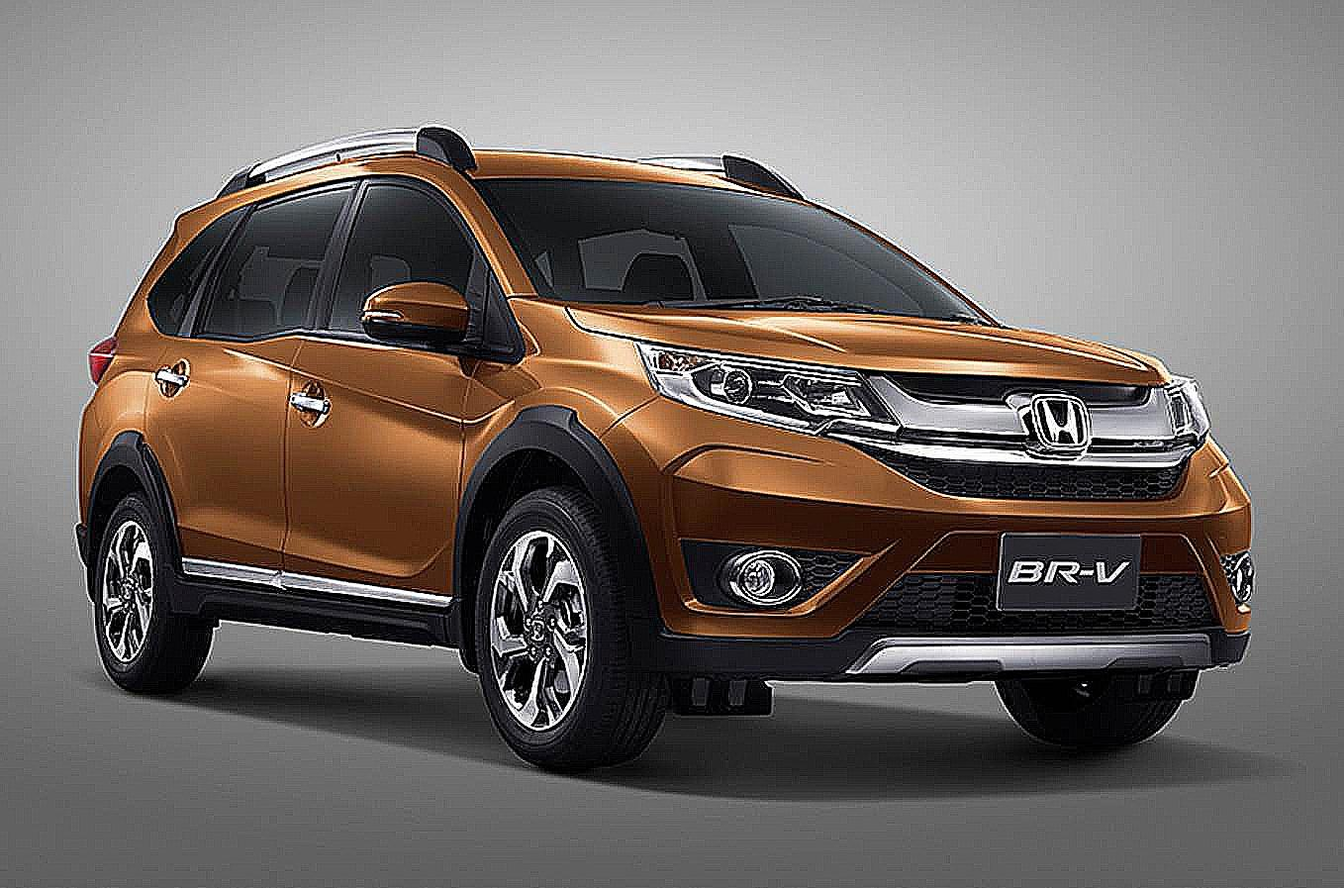Car hood: (550, 287, 1196, 387)
Driver-s door - -F-R-: (290, 159, 496, 605)
Fender - -F-R-: (436, 275, 681, 669)
Fender - -R-R-: (79, 295, 211, 628)
Front bumper: (584, 394, 1267, 683)
Headlight - -L-: (1131, 367, 1227, 459)
Headlight - -R-: (616, 329, 906, 439)
Passenger-s door - -R-R-: (144, 171, 334, 570)
Rear bumper: (31, 482, 136, 590)
Rear light - -R-: (72, 317, 148, 396)
Side bumper - -R-: (150, 542, 480, 673)
Side mirror - -R-: (349, 260, 503, 372)
